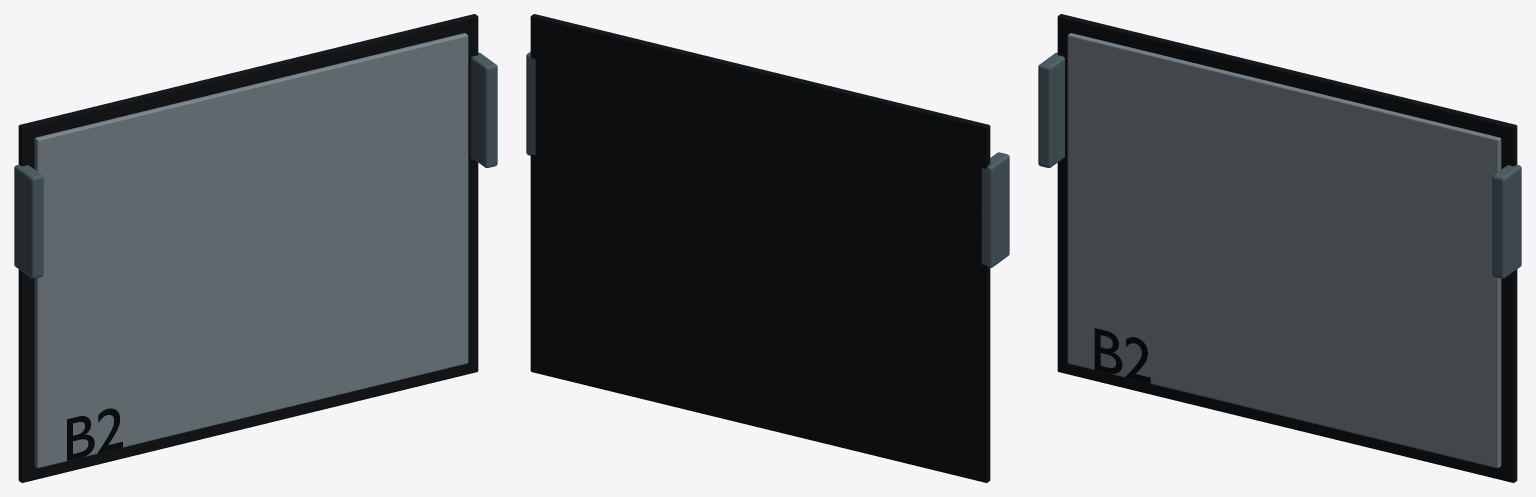
File: slot_b2.obj
The picture shows the model from 3 angles, left to right: view 1: azimuth 30°, elevation 25°; view 2: azimuth 150°, elevation 25°; view 3: azimuth 330°, elevation 25°; orthographic projection.
Visible parts, largest first — view 1: flex__slot_b2__insert, flex__slot_b2__recess, flex__slot_b2__locator, flex__slot_b2__locator.001, flex__slot_b2__id; view 2: flex__slot_b2__recess, flex__slot_b2__locator, flex__slot_b2__locator.001; view 3: flex__slot_b2__insert, flex__slot_b2__recess, flex__slot_b2__locator.001, flex__slot_b2__locator, flex__slot_b2__id.
Boxes of the visible parts, x1,y1,x2,y2 form: flex__slot_b2__insert: (34, 33, 468, 468); flex__slot_b2__recess: (18, 14, 478, 482); flex__slot_b2__locator: (14, 164, 43, 278); flex__slot_b2__locator.001: (471, 52, 497, 167); flex__slot_b2__id: (67, 408, 122, 460); flex__slot_b2__recess: (530, 14, 990, 482); flex__slot_b2__locator: (981, 152, 1009, 267); flex__slot_b2__locator.001: (526, 51, 535, 155); flex__slot_b2__insert: (1067, 33, 1501, 468); flex__slot_b2__recess: (1057, 14, 1517, 482); flex__slot_b2__locator.001: (1492, 164, 1521, 278); flex__slot_b2__locator: (1038, 52, 1064, 167); flex__slot_b2__id: (1094, 328, 1150, 383).
Size of the model in its own units: 0.144 by 0.105 by 0.01.
